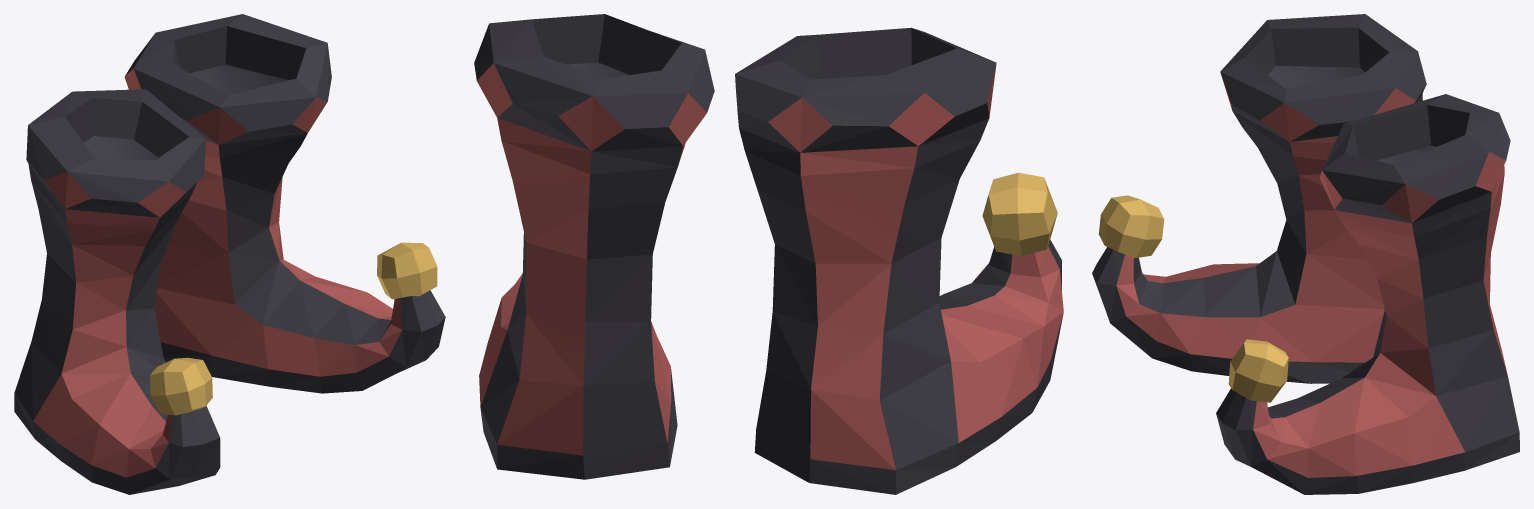
File: bootsJesterDisplay.fbx
3 renders of one model, left to right at view 1: azimuth 30°, elevation 25°; view 2: azimuth 150°, elevation 25°; view 3: azimuth 270°, elevation 25°, orthographic. The views are drawn at different scales.
Visible parts, largest first — view 1: bootsJesterDisplay; view 2: bootsJesterDisplay; view 3: bootsJesterDisplay.
Part boxes in pixels (left/top/right/bottom): bootsJesterDisplay: left=14, top=14, right=445, bottom=494; bootsJesterDisplay: left=474, top=14, right=1063, bottom=494; bootsJesterDisplay: left=1092, top=14, right=1519, bottom=494.
Bounding box in the file's own units: 1.54 × 1.2 × 1.49.
Materials: 1 (1 with a texture image).
